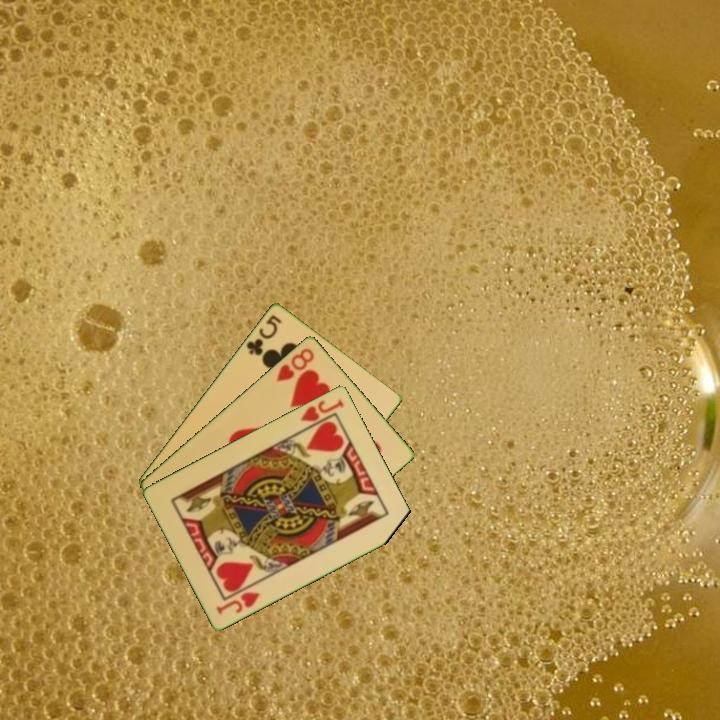5c: (243, 311, 285, 358)
8h: (272, 344, 317, 384)
Jh: (212, 588, 263, 617), (297, 395, 347, 424)
